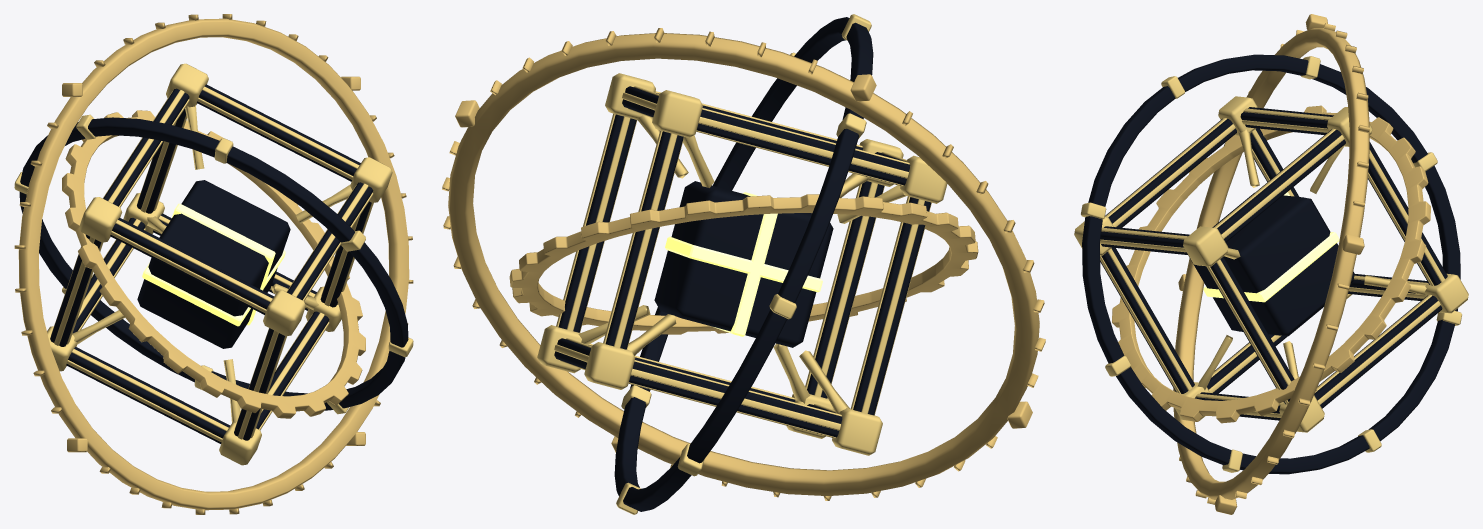
File: relic_master_ledger.glb
3 renders of one model, left to right at view 1: azimuth 30°, elevation 25°; view 2: azimuth 150°, elevation 25°; view 3: azimuth 270°, elevation 25°, orthographic. The views are drawn at different scales.
Visible parts, largest first — view 1: MasterLedger_Tesseract_Obsidian, MasterLedger_Orbit_Outer, MasterLedger_Tesseract_Gold, MasterLedger_Orbit_Inner, MasterLedger_Orbit_Mid_Obs, MasterLedger_Tesseract_Glow, MasterLedger_Orbit_Mid_Lugs; view 2: MasterLedger_Orbit_Outer, MasterLedger_Tesseract_Obsidian, MasterLedger_Tesseract_Gold, MasterLedger_Orbit_Mid_Obs, MasterLedger_Orbit_Inner, MasterLedger_Tesseract_Glow, MasterLedger_Orbit_Mid_Lugs; view 3: MasterLedger_Tesseract_Obsidian, MasterLedger_Tesseract_Gold, MasterLedger_Orbit_Outer, MasterLedger_Orbit_Mid_Obs, MasterLedger_Orbit_Inner, MasterLedger_Orbit_Mid_Lugs, MasterLedger_Tesseract_Glow.
Part boxes in pixels (left/top/right/bottom): MasterLedger_Tesseract_Obsidian: left=50, top=84, right=373, bottom=443; MasterLedger_Orbit_Outer: left=14, top=14, right=413, bottom=514; MasterLedger_Tesseract_Gold: left=47, top=63, right=392, bottom=465; MasterLedger_Orbit_Inner: left=62, top=110, right=365, bottom=418; MasterLedger_Orbit_Mid_Obs: left=19, top=117, right=408, bottom=410; MasterLedger_Tesseract_Glow: left=142, top=203, right=285, bottom=326; MasterLedger_Orbit_Mid_Lugs: left=14, top=114, right=413, bottom=414; MasterLedger_Orbit_Outer: left=442, top=28, right=1045, bottom=500; MasterLedger_Tesseract_Obsidian: left=554, top=86, right=931, bottom=437; MasterLedger_Tesseract_Gold: left=537, top=73, right=947, bottom=455; MasterLedger_Orbit_Mid_Obs: left=614, top=17, right=873, bottom=511; MasterLedger_Orbit_Inner: left=509, top=194, right=978, bottom=334; MasterLedger_Tesseract_Glow: left=665, top=192, right=822, bottom=336; MasterLedger_Orbit_Mid_Lugs: left=616, top=14, right=871, bottom=514; MasterLedger_Tesseract_Obsidian: left=1100, top=107, right=1447, bottom=420; MasterLedger_Tesseract_Gold: left=1074, top=96, right=1468, bottom=432; MasterLedger_Orbit_Outer: left=1173, top=14, right=1369, bottom=514; MasterLedger_Orbit_Mid_Obs: left=1082, top=54, right=1460, bottom=474; MasterLedger_Orbit_Inner: left=1112, top=105, right=1430, bottom=423; MasterLedger_Orbit_Mid_Lugs: left=1081, top=56, right=1461, bottom=472; MasterLedger_Tesseract_Glow: left=1203, top=192, right=1339, bottom=302.
Bounding box in the file's own units: 1.6 × 1.54 × 1.3.
